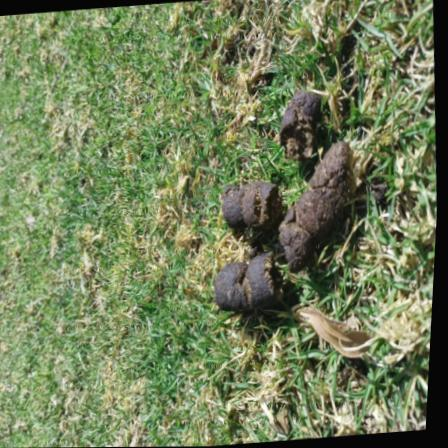dog-poop: (206, 91, 362, 315)
